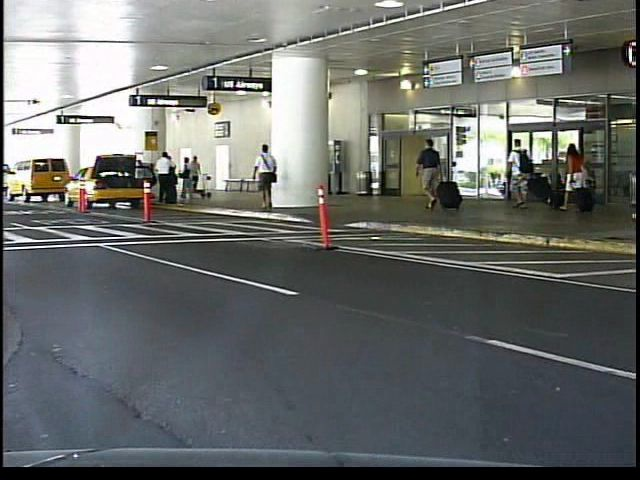person: (504, 133, 541, 213), (562, 133, 594, 220), (413, 135, 447, 211), (251, 142, 283, 215)
